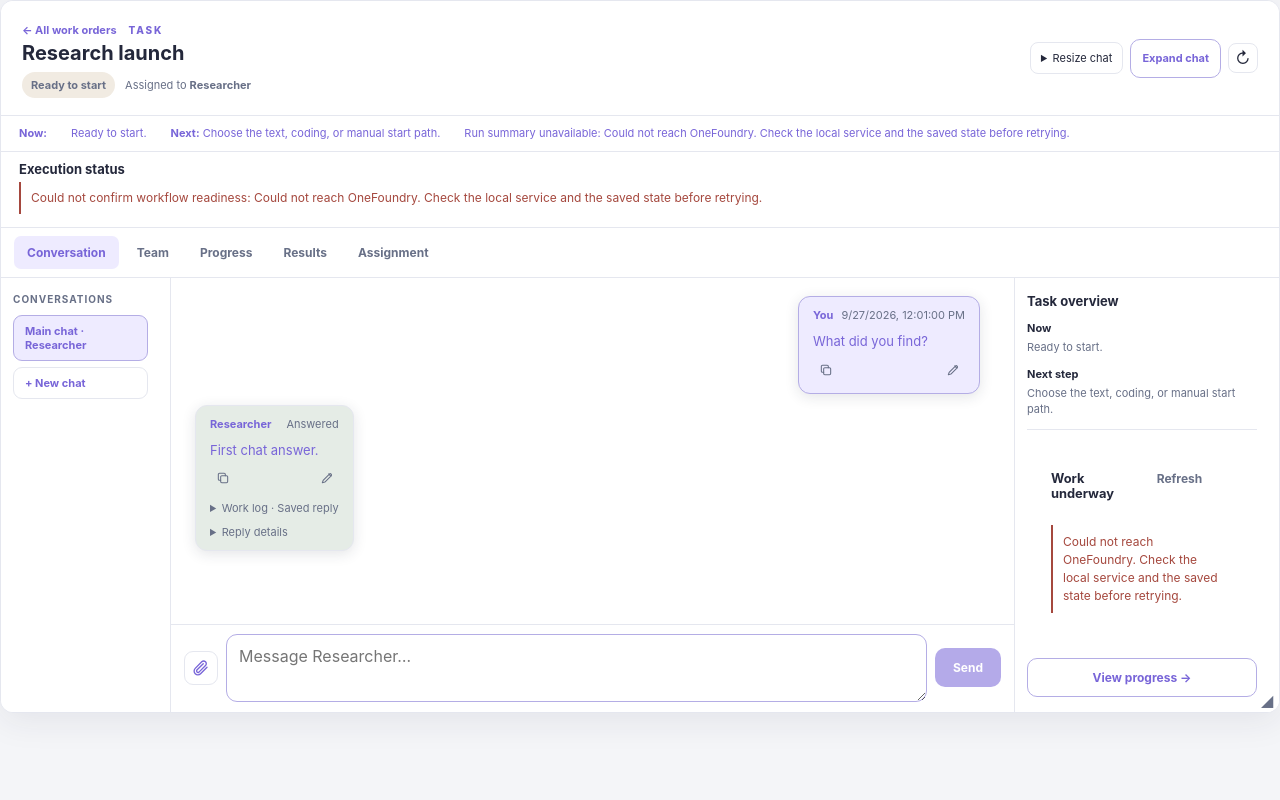
Scenario: creates a second named chat under one work order and keeps the first transcript separate
Check: the text "First chat answer." is shown, box [210,442,318,458]
Click the button "+ New chat" at (80, 383), box [13,367,148,399]
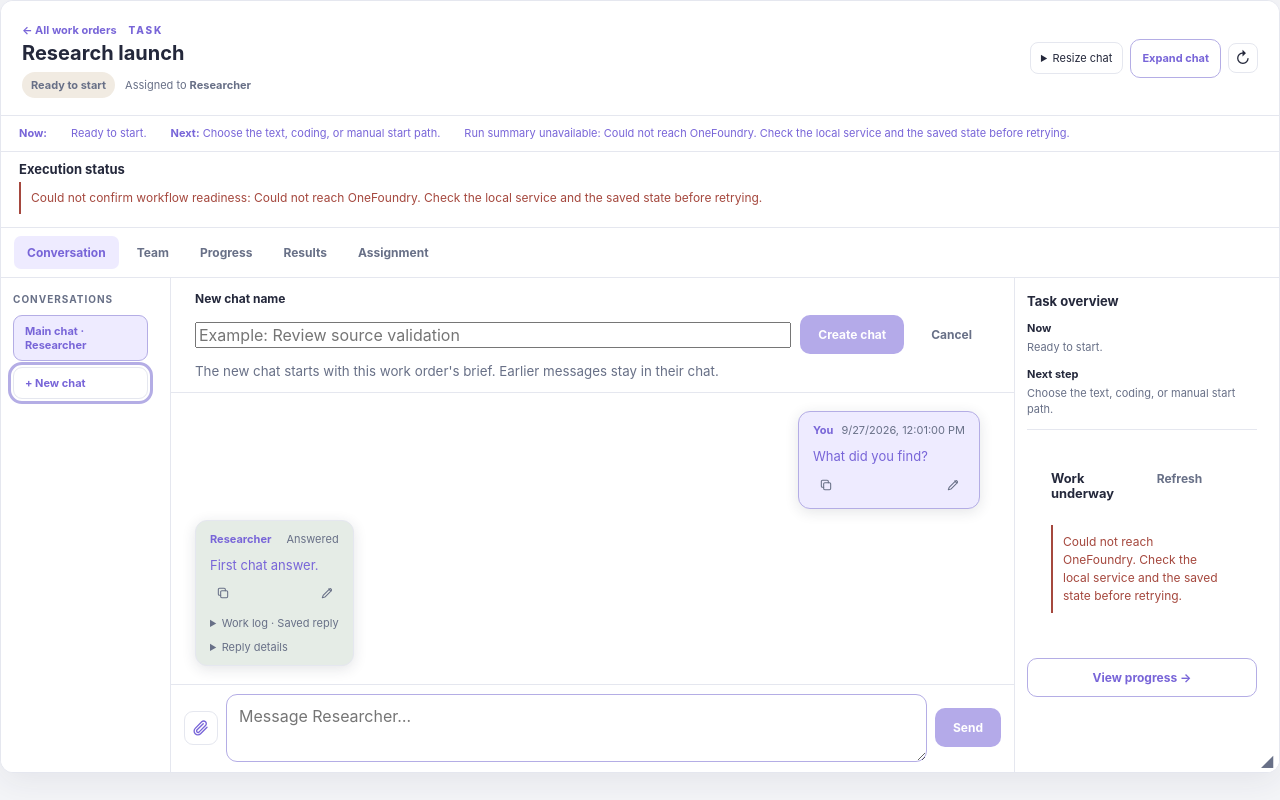
Type "Follow-up" into the field labelled "New chat name" at (493, 335), box [195,322,791,348]
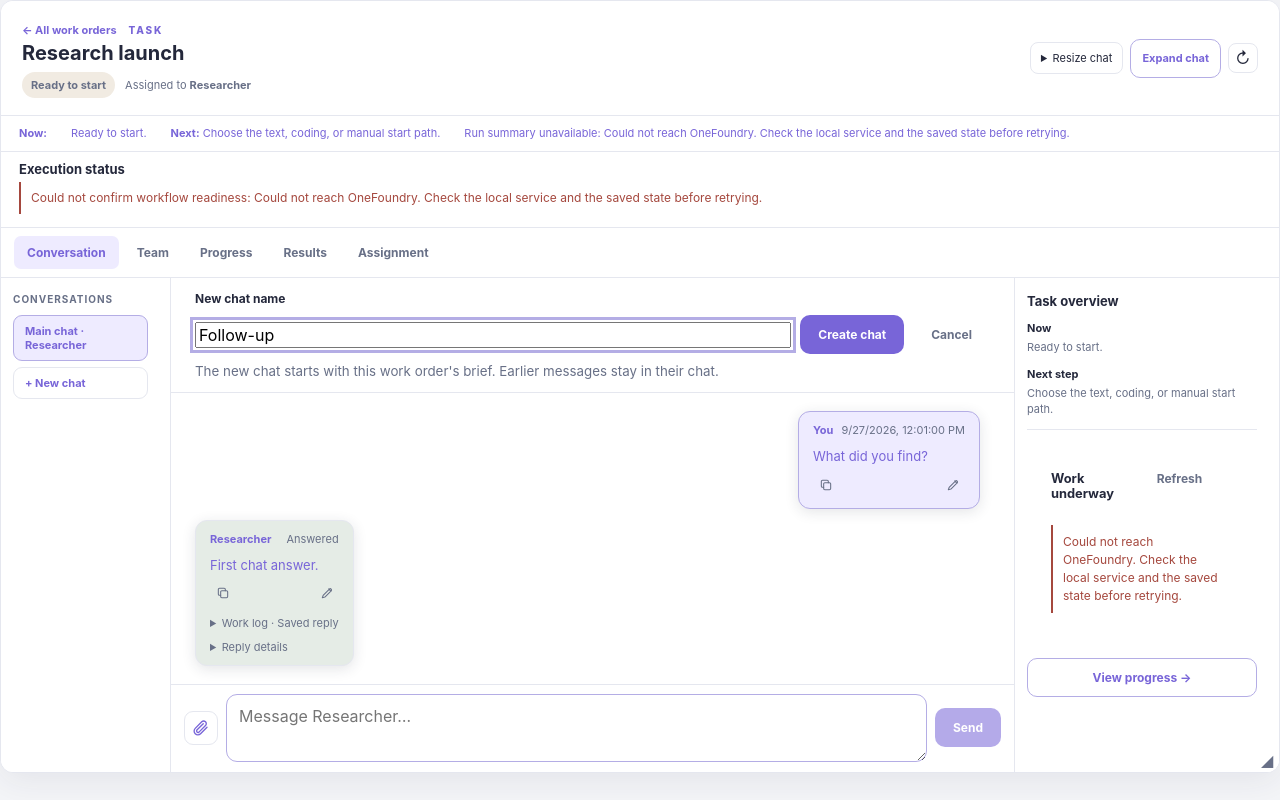
Click the button "Create chat" at (852, 335), box [800,315,904,354]
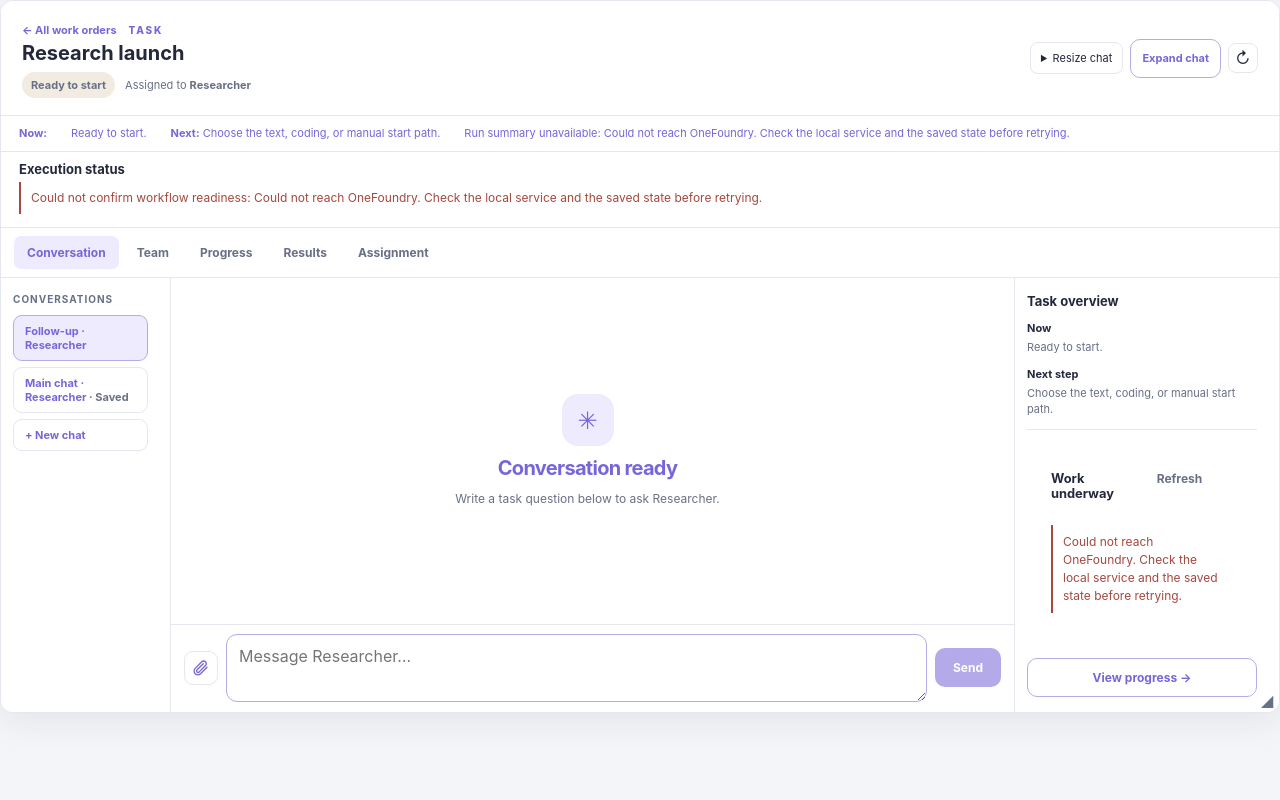
Check: the text "First chat answer." is gone
Click the button "Main chat · Researcher · Saved" at (80, 390), box [13,367,148,413]
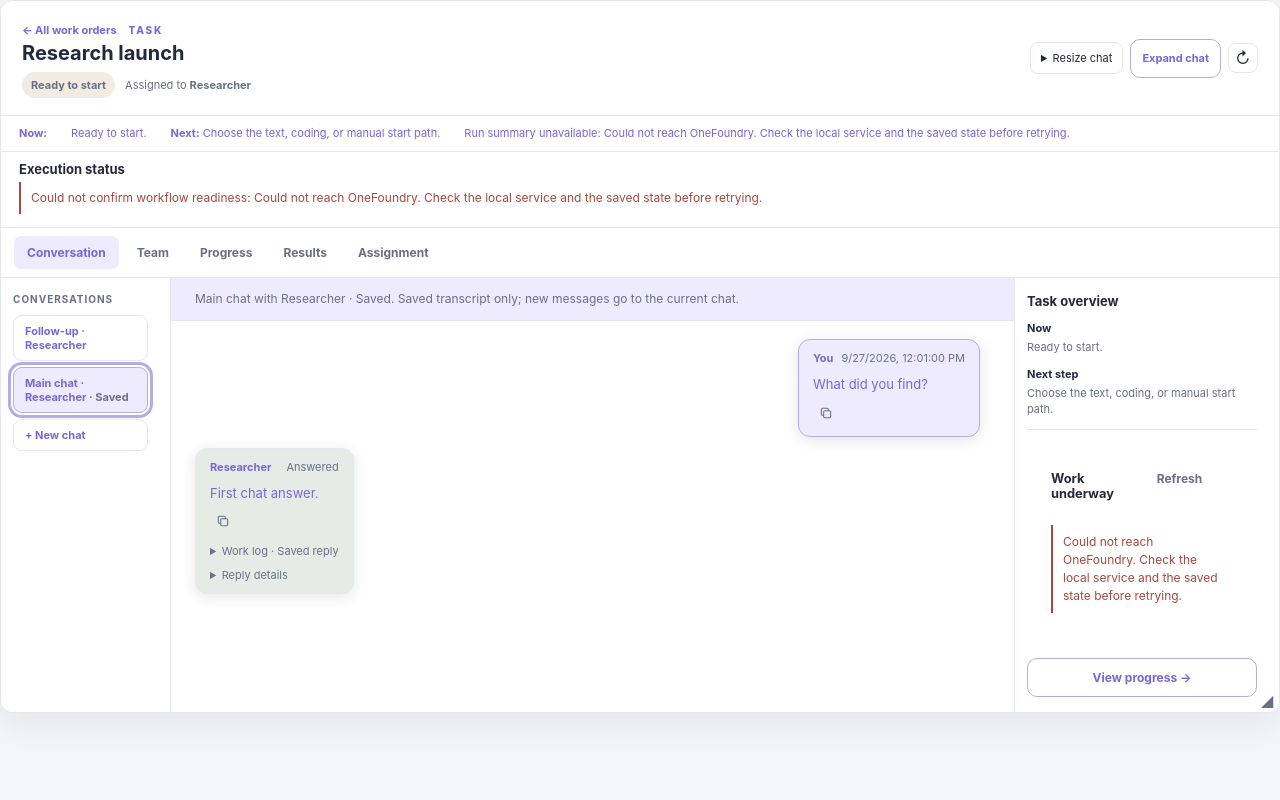
Check: the text "First chat answer." is shown, box [210,485,318,501]
